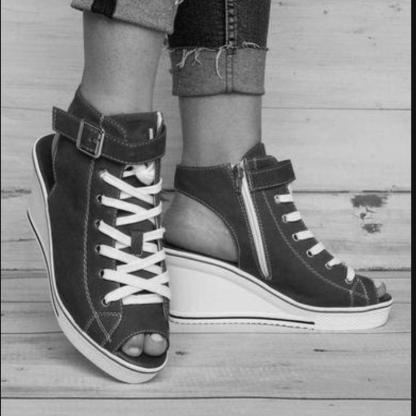ankle: (76, 140, 84, 148), (217, 168, 225, 175)
heel: (176, 237, 182, 243), (35, 147, 41, 152)
left_foot: (172, 143, 391, 332)
pinky: (82, 322, 88, 329), (361, 278, 365, 282)
right_foot: (33, 114, 171, 385)
toe: (154, 336, 161, 343), (378, 295, 382, 299)
